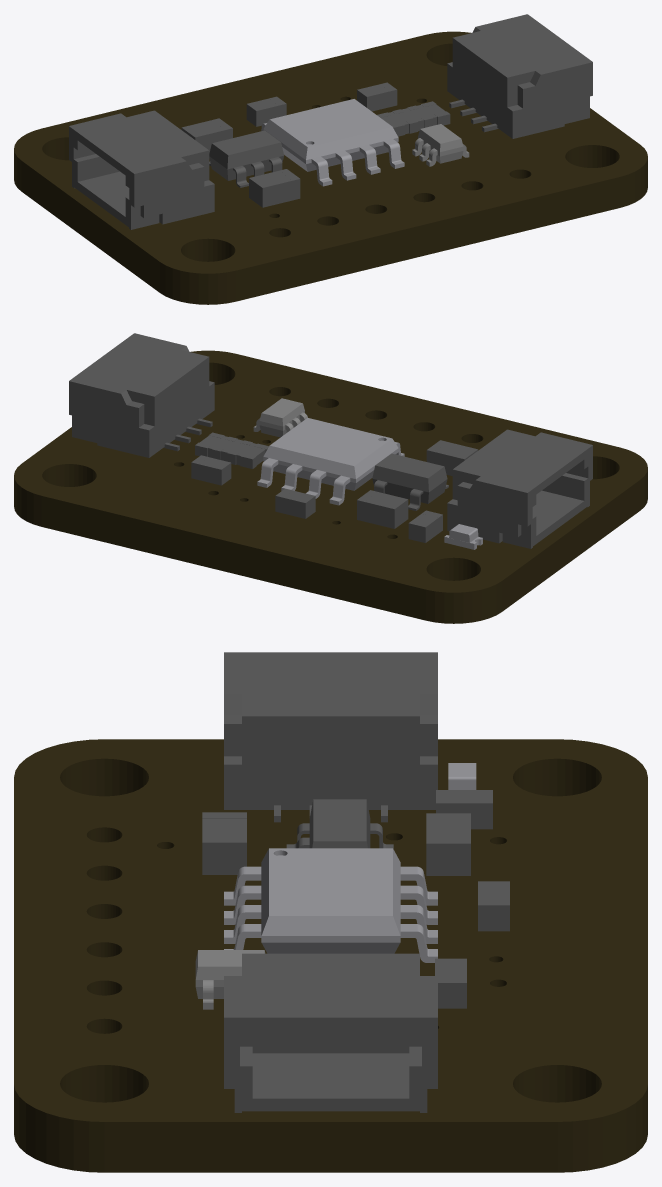
File: adafruit-as5600.glb
The picture shows the model from 3 angles, top to bottom: view 1: azimuth 30°, elevation 25°; view 2: azimuth 150°, elevation 25°; view 3: azimuth 270°, elevation 25°; orthographic projection. The views are drawn at different scales.
Parts seen in each view (by area): view 1: adafruit-as5600; view 2: adafruit-as5600; view 3: adafruit-as5600.
Part boxes in pixels (x1,y1,x2,y2): adafruit-as5600: (14,14,647,304); adafruit-as5600: (14,333,647,623); adafruit-as5600: (14,652,647,1172).
Size of the model in its own units: 25.4 by 4.53 by 17.78.
